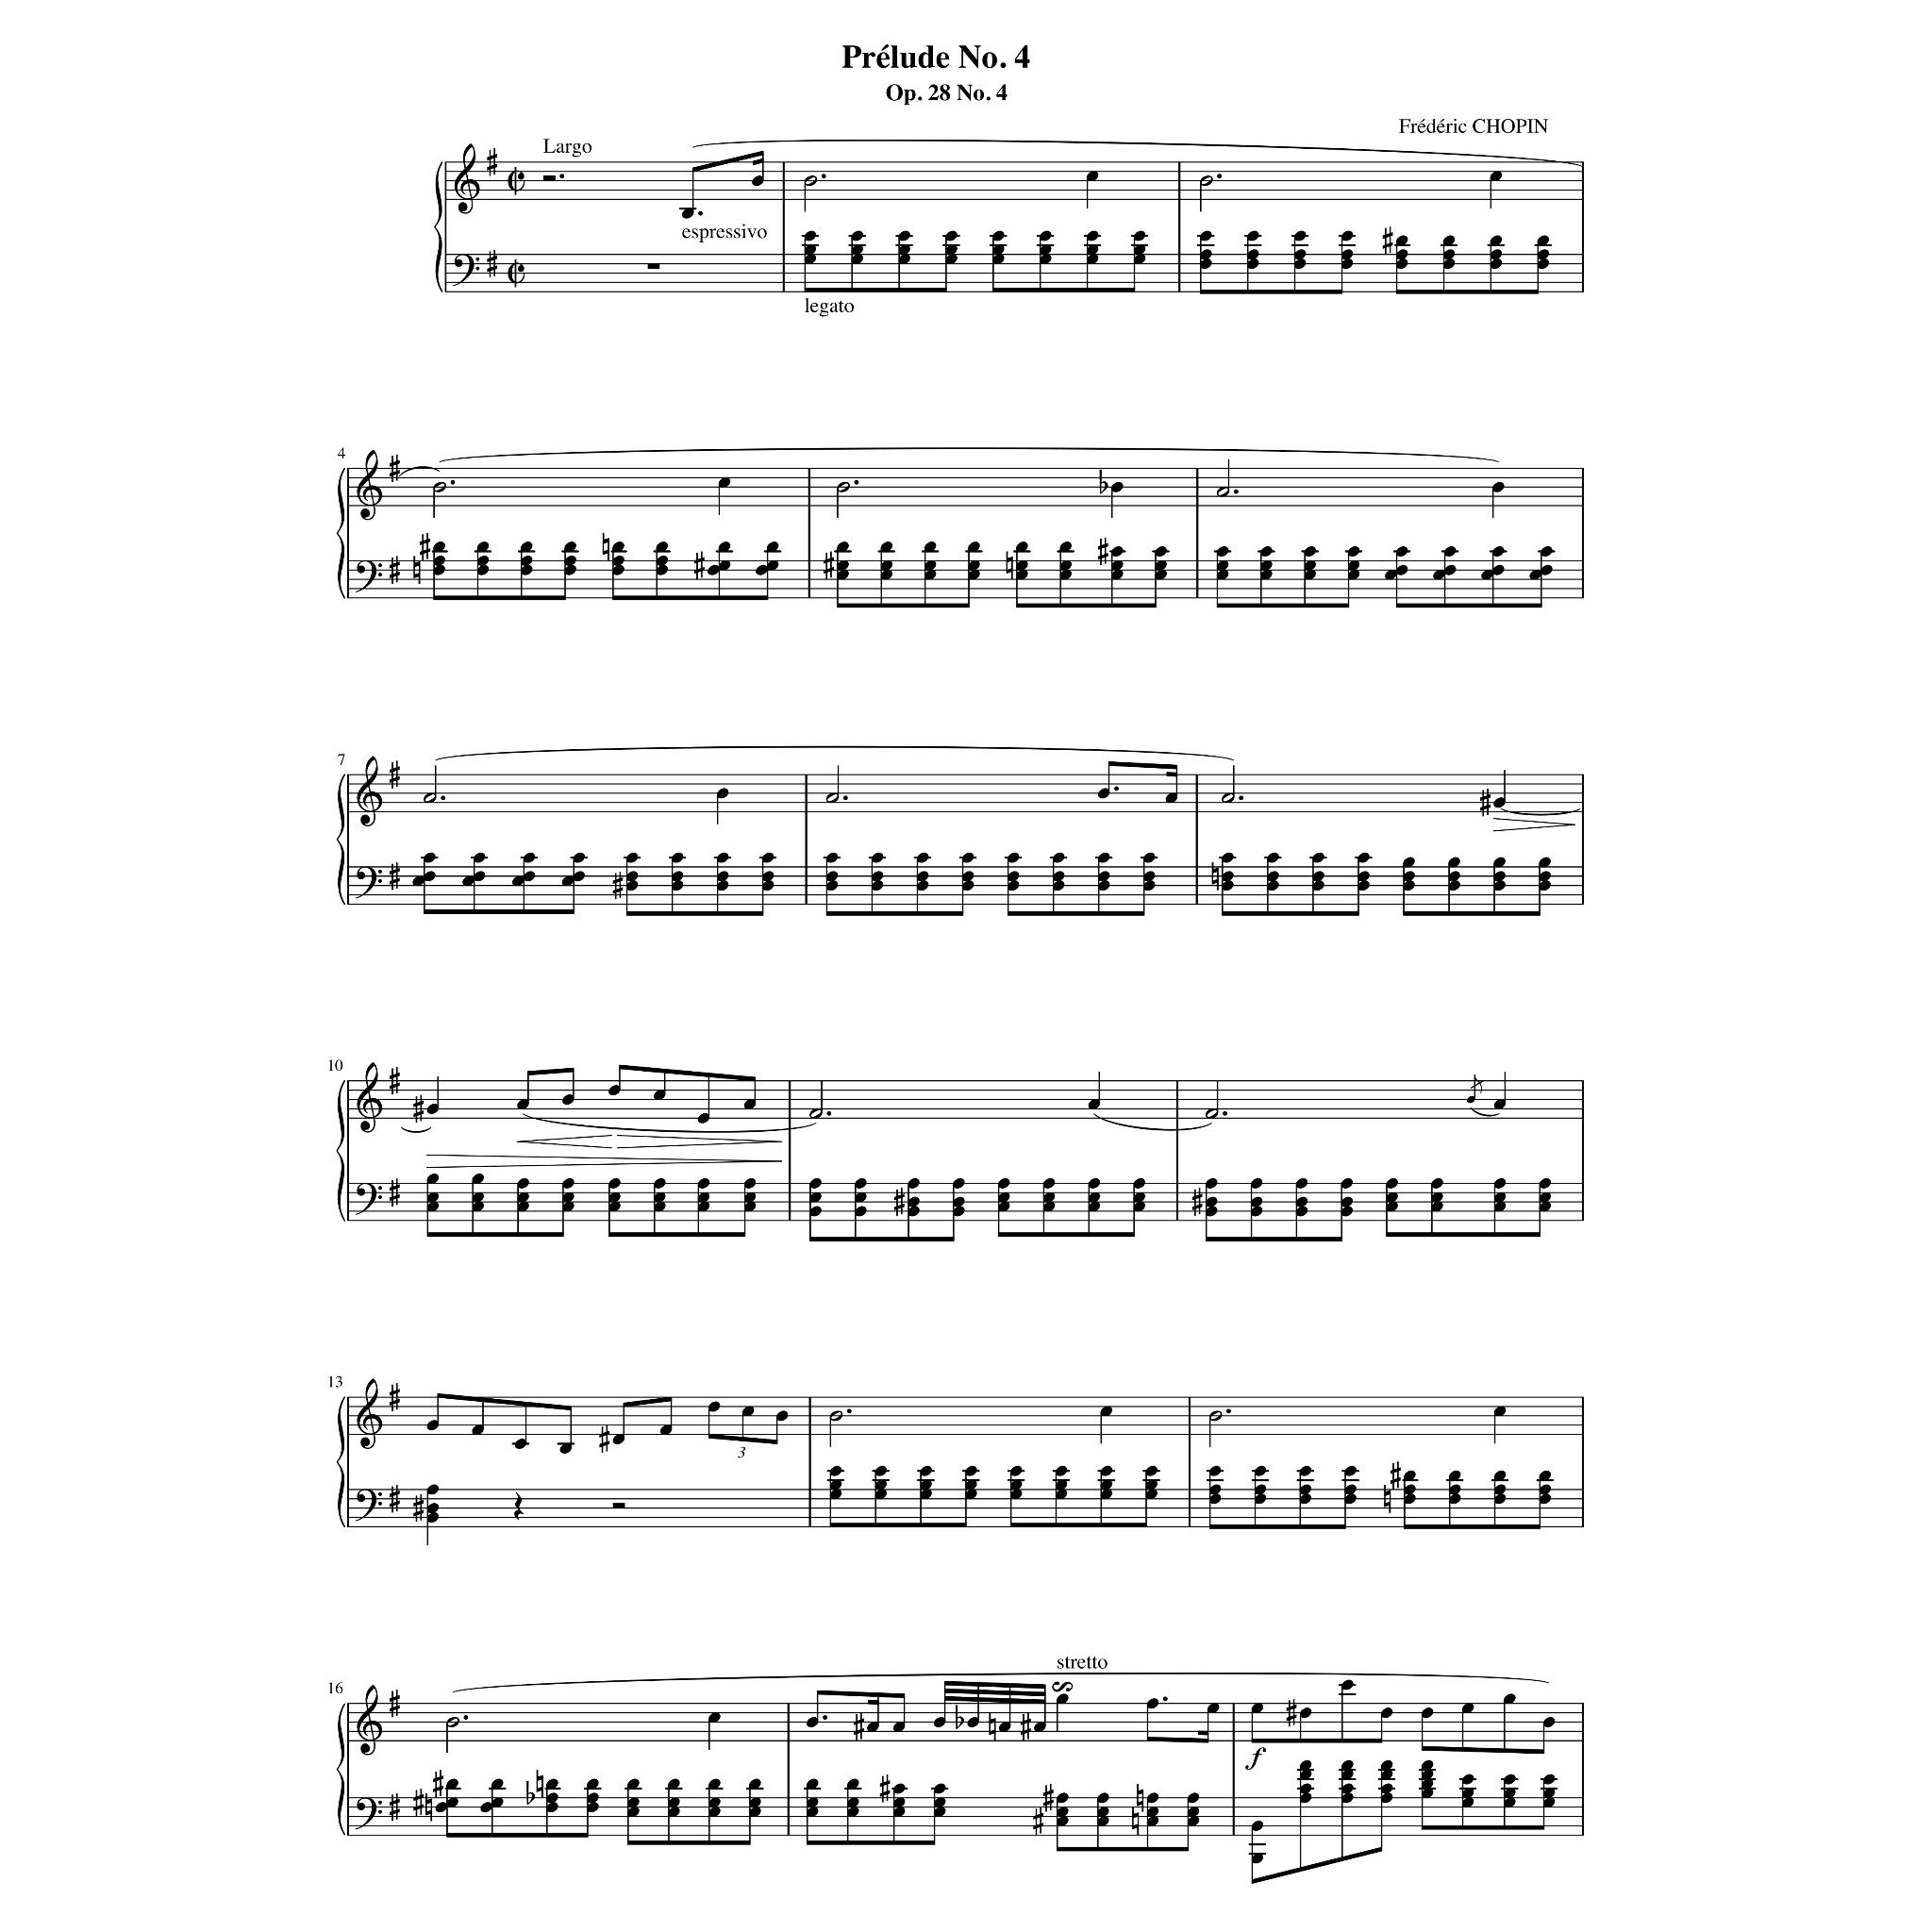brace: (336, 1081, 345, 1221), (433, 161, 442, 294), (336, 467, 345, 600), (336, 773, 345, 906), (336, 1396, 345, 1529), (336, 1704, 345, 1836)
fClef: (354, 559, 382, 593), (354, 1182, 382, 1215), (354, 1798, 382, 1831), (354, 867, 382, 899), (354, 1490, 382, 1522), (453, 255, 479, 287)
flag8thUp: (1468, 1069, 1483, 1095)
gClef: (453, 143, 479, 216), (356, 755, 382, 828), (356, 1378, 382, 1451), (356, 449, 382, 520), (356, 1062, 382, 1132), (356, 1684, 382, 1755)
noteheadBlack: (1132, 253, 1145, 265), (803, 253, 816, 265), (752, 175, 764, 188), (681, 207, 694, 219), (993, 253, 1005, 265), (945, 253, 957, 265), (1039, 253, 1051, 265), (1086, 253, 1099, 265), (851, 253, 863, 265), (897, 253, 909, 265), (1111, 481, 1123, 494), (1539, 564, 1552, 577), (1491, 564, 1504, 577), (1491, 481, 1504, 494), (1444, 564, 1456, 577), (1396, 564, 1408, 577), (612, 564, 625, 577), (564, 564, 577, 577), (708, 564, 720, 577), (655, 564, 667, 577), (432, 564, 444, 577), (520, 564, 533, 577), (476, 564, 488, 577), (755, 564, 768, 577), (1221, 851, 1233, 863), (1221, 870, 1233, 883), (1221, 879, 1233, 892), (1097, 787, 1109, 800), (1053, 851, 1065, 863), (1053, 870, 1065, 883), (1053, 879, 1065, 892), (1097, 879, 1109, 892), (1007, 851, 1019, 863), (1007, 870, 1019, 883), (1007, 879, 1019, 892), (1143, 851, 1155, 863), (1143, 870, 1155, 883), (1143, 879, 1155, 892), (1097, 851, 1109, 863), (1097, 870, 1109, 883), (1537, 856, 1550, 869), (1537, 870, 1550, 883), (1537, 879, 1550, 892), (1493, 856, 1506, 869), (1493, 870, 1506, 883), (1493, 879, 1506, 892), (1311, 870, 1323, 883), (1357, 851, 1369, 863), (1357, 870, 1369, 883), (1357, 879, 1369, 892), (1311, 851, 1323, 863), (1311, 879, 1323, 892), (1267, 851, 1279, 863), (1267, 870, 1279, 883), (1267, 879, 1279, 892), (1447, 856, 1460, 869), (1447, 870, 1460, 883), (1447, 879, 1460, 892), (1403, 856, 1415, 869), (1403, 870, 1415, 883), (1403, 879, 1415, 892), (522, 870, 534, 883), (571, 851, 584, 863), (571, 870, 584, 883), (522, 851, 534, 863), (472, 851, 485, 863), (472, 870, 485, 883), (671, 851, 683, 863), (671, 870, 683, 883), (625, 851, 637, 863), (625, 870, 637, 883), (625, 879, 637, 892), (423, 870, 435, 883), (423, 851, 435, 863), (671, 879, 683, 892), (915, 879, 927, 892), (915, 870, 927, 883), (915, 851, 927, 863), (870, 851, 883, 863), (870, 870, 883, 883), (870, 879, 883, 892), (824, 851, 837, 863), (961, 879, 973, 892), (961, 870, 973, 883), (717, 851, 729, 863), (717, 870, 729, 883), (961, 851, 973, 863), (717, 879, 729, 892), (717, 787, 729, 800), (824, 879, 837, 892), (824, 870, 837, 883), (1205, 1177, 1217, 1189), (1205, 1205, 1217, 1217), (1132, 1177, 1145, 1189), (1132, 1191, 1145, 1203), (1249, 1205, 1261, 1217), (1249, 1177, 1261, 1189), (996, 1177, 1008, 1189), (996, 1191, 1008, 1203), (952, 1177, 964, 1189), (952, 1205, 964, 1217), (1042, 1177, 1054, 1189), (1042, 1191, 1054, 1203), (1537, 1177, 1550, 1189), (1537, 1191, 1550, 1203), (1385, 1177, 1398, 1189), (1385, 1191, 1398, 1203), (1339, 1177, 1352, 1189), (1339, 1205, 1352, 1217), (1295, 1177, 1307, 1189), (1295, 1205, 1307, 1217), (1493, 1177, 1506, 1189), (1493, 1191, 1506, 1203), (1493, 1099, 1506, 1111), (1431, 1177, 1444, 1189), (1431, 1191, 1444, 1203), (517, 1177, 529, 1189), (517, 1191, 529, 1203), (517, 1099, 529, 1111), (609, 1177, 621, 1189), (908, 1177, 920, 1189), (609, 1191, 621, 1203), (609, 1085, 621, 1097), (471, 1173, 483, 1185), (471, 1191, 483, 1203), (426, 1173, 439, 1185), (426, 1191, 439, 1203), (809, 1177, 821, 1189), (809, 1191, 821, 1203), (809, 1205, 821, 1217), (908, 1205, 920, 1217), (855, 1177, 867, 1189), (855, 1191, 867, 1203), (855, 1205, 867, 1217), (697, 1177, 709, 1189), (697, 1191, 709, 1203), (653, 1177, 665, 1189), (653, 1191, 665, 1203), (743, 1191, 755, 1203), (743, 1177, 755, 1189), (743, 1099, 755, 1111), (1054, 1488, 1067, 1500), (1010, 1488, 1023, 1500), (1145, 1488, 1157, 1500), (1099, 1488, 1111, 1500), (1099, 1405, 1111, 1417), (1493, 1405, 1506, 1417), (513, 1438, 525, 1451), (660, 1424, 672, 1437), (471, 1424, 483, 1437), (612, 1433, 625, 1445), (426, 1502, 439, 1514), (426, 1419, 439, 1431), (964, 1488, 977, 1500), (920, 1488, 932, 1500), (874, 1488, 886, 1500), (741, 1405, 754, 1417), (775, 1410, 787, 1422), (828, 1488, 840, 1500), (1251, 1852, 1263, 1865), (1251, 1702, 1263, 1714), (1299, 1759, 1311, 1771), (1097, 1815, 1109, 1828), (1056, 1815, 1069, 1828), (1207, 1702, 1219, 1714), (1146, 1815, 1159, 1828), (1543, 1773, 1555, 1785), (1543, 1787, 1555, 1799), (1543, 1716, 1555, 1729), (1504, 1773, 1516, 1785), (1504, 1787, 1516, 1799), (1380, 1759, 1392, 1771), (1341, 1759, 1353, 1771), (1461, 1773, 1474, 1785), (1461, 1787, 1474, 1799), (1461, 1702, 1474, 1714), (1341, 1679, 1353, 1691), (1421, 1759, 1433, 1771), (1421, 1787, 1433, 1799), (586, 1801, 598, 1813), (807, 1716, 819, 1729), (545, 1801, 557, 1813), (479, 1801, 492, 1813), (934, 1716, 947, 1729), (966, 1716, 978, 1729), (1246, 258, 1258, 269), (1246, 249, 1258, 260), (1246, 230, 1258, 241), (1293, 258, 1306, 269), (1293, 249, 1306, 260), (1293, 230, 1306, 241), (1132, 230, 1145, 241), (1132, 244, 1145, 255), (1200, 258, 1212, 269), (1200, 249, 1212, 260), (1200, 230, 1212, 241), (1536, 258, 1548, 269), (1536, 235, 1548, 246), (1536, 249, 1548, 260), (1339, 258, 1352, 269), (1339, 249, 1352, 260), (1339, 230, 1352, 241), (1396, 258, 1408, 269), (1396, 249, 1408, 260), (1396, 235, 1408, 246), (1442, 258, 1454, 269), (1442, 249, 1454, 260), (1442, 235, 1454, 246), (1490, 172, 1502, 182), (1490, 258, 1502, 269), (1490, 249, 1502, 260), (1490, 235, 1502, 246), (803, 244, 816, 255), (803, 230, 816, 241), (1086, 230, 1099, 241), (945, 230, 957, 241), (993, 230, 1005, 241), (993, 244, 1005, 255), (945, 244, 957, 255), (1039, 244, 1051, 255), (1039, 230, 1051, 241), (1086, 172, 1099, 182), (1086, 244, 1099, 255), (897, 230, 909, 241), (851, 244, 863, 255), (851, 230, 863, 241), (897, 244, 909, 255), (1215, 547, 1228, 557), (1215, 561, 1228, 571), (1215, 570, 1228, 580), (1154, 547, 1166, 557), (1154, 561, 1166, 571), (1154, 570, 1166, 580), (968, 570, 980, 580), (1016, 561, 1028, 571), (1016, 541, 1028, 552), (1016, 570, 1028, 580), (968, 541, 980, 552), (968, 561, 980, 571), (1111, 547, 1123, 557), (1111, 561, 1123, 571), (1111, 570, 1123, 580), (1539, 547, 1552, 557), (1529, 570, 1541, 580), (1491, 547, 1504, 557), (1481, 570, 1493, 580), (1348, 561, 1361, 571), (1348, 570, 1361, 580), (1304, 547, 1316, 557), (1304, 561, 1316, 571), (1304, 570, 1316, 580), (1348, 547, 1361, 557), (1260, 547, 1272, 557), (1260, 561, 1272, 571), (1260, 570, 1272, 580), (1444, 547, 1456, 557), (1433, 570, 1445, 580), (1396, 547, 1408, 557), (1384, 570, 1396, 580), (612, 541, 625, 552), (612, 556, 625, 566), (564, 541, 577, 552), (564, 556, 577, 566), (655, 556, 667, 566), (655, 541, 667, 552), (432, 541, 444, 552), (432, 556, 444, 566), (520, 541, 533, 552), (520, 556, 533, 566), (476, 541, 488, 552), (476, 556, 488, 566), (924, 541, 936, 552), (924, 561, 936, 571), (924, 570, 936, 580), (879, 541, 892, 552), (879, 561, 892, 571), (879, 570, 892, 580), (766, 541, 778, 552), (766, 561, 778, 571), (837, 541, 849, 552), (837, 561, 849, 571), (837, 570, 849, 580), (1164, 793, 1177, 803), (1493, 798, 1506, 809), (561, 876, 573, 886), (511, 876, 524, 886), (462, 876, 474, 886), (412, 876, 425, 886), (763, 879, 773, 892), (763, 851, 773, 863), (763, 870, 773, 883), (1205, 1196, 1217, 1207), (1249, 1196, 1261, 1207), (996, 1201, 1008, 1212), (952, 1196, 964, 1207), (1088, 1191, 1099, 1203), (1088, 1177, 1099, 1189), (1132, 1201, 1145, 1212), (1088, 1099, 1099, 1111), (1042, 1201, 1054, 1212), (1537, 1201, 1550, 1212), (1385, 1201, 1398, 1212), (1339, 1196, 1352, 1207), (1295, 1196, 1307, 1207), (1493, 1201, 1506, 1212), (1431, 1201, 1444, 1212), (563, 1177, 573, 1189), (563, 1191, 573, 1203), (517, 1201, 529, 1212), (653, 1090, 665, 1100), (609, 1201, 621, 1212), (471, 1201, 483, 1212), (426, 1201, 439, 1212), (426, 1104, 439, 1115), (653, 1201, 665, 1212), (908, 1196, 920, 1207), (697, 1201, 709, 1212), (697, 1113, 709, 1123), (743, 1201, 755, 1212), (1208, 1467, 1221, 1477), (1208, 1484, 1221, 1495), (1208, 1493, 1221, 1504), (1253, 1467, 1265, 1477), (1253, 1484, 1265, 1495), (1253, 1493, 1265, 1504), (1054, 1467, 1067, 1477), (1054, 1479, 1067, 1490), (1010, 1467, 1023, 1477), (1010, 1479, 1023, 1490), (1145, 1467, 1157, 1477), (1145, 1479, 1157, 1490), (1099, 1467, 1111, 1477), (1099, 1479, 1111, 1490), (1537, 1470, 1550, 1481), (1537, 1484, 1550, 1495), (1537, 1493, 1550, 1504), (1493, 1470, 1506, 1481), (1493, 1484, 1506, 1495), (1403, 1493, 1415, 1504), (1403, 1484, 1415, 1495), (1299, 1467, 1311, 1477), (1299, 1484, 1311, 1495), (1299, 1493, 1311, 1504), (1449, 1493, 1461, 1504), (1493, 1493, 1506, 1504), (1449, 1470, 1461, 1481), (1449, 1484, 1461, 1495), (1403, 1470, 1415, 1481), (559, 1444, 571, 1454), (964, 1467, 977, 1477), (426, 1484, 439, 1495), (426, 1513, 439, 1523), (920, 1479, 932, 1490), (964, 1479, 977, 1490), (920, 1467, 932, 1477), (874, 1467, 886, 1477), (874, 1479, 886, 1490), (708, 1401, 720, 1412), (828, 1479, 840, 1490), (828, 1467, 840, 1477), (1251, 1821, 1263, 1831), (1299, 1769, 1311, 1780), (1299, 1783, 1311, 1794), (1299, 1792, 1311, 1803), (1299, 1707, 1311, 1718), (1056, 1693, 1069, 1704), (1097, 1792, 1109, 1803), (1097, 1806, 1109, 1817), (1056, 1792, 1069, 1803), (1056, 1806, 1069, 1817), (1187, 1815, 1198, 1828), (1146, 1792, 1159, 1803), (1146, 1806, 1159, 1817), (1146, 1698, 1159, 1709), (1543, 1798, 1555, 1808), (1504, 1798, 1516, 1808), (1504, 1693, 1516, 1704), (1380, 1769, 1392, 1780), (1380, 1783, 1392, 1794), (1380, 1792, 1392, 1803), (1380, 1707, 1392, 1718), (1341, 1769, 1353, 1780), (1341, 1783, 1353, 1794), (1341, 1792, 1353, 1803), (1461, 1798, 1474, 1808), (1421, 1769, 1433, 1780), (1421, 1778, 1433, 1789), (1421, 1707, 1433, 1718), (667, 1778, 679, 1789), (667, 1798, 679, 1808), (667, 1806, 679, 1817), (626, 1778, 639, 1789), (626, 1798, 639, 1808), (626, 1806, 639, 1817), (586, 1778, 598, 1789), (586, 1792, 598, 1803), (807, 1798, 819, 1808), (807, 1806, 819, 1817), (748, 1778, 761, 1789), (748, 1798, 761, 1808), (748, 1806, 761, 1817), (708, 1778, 720, 1789), (708, 1798, 720, 1808), (708, 1806, 720, 1817), (708, 1713, 720, 1723), (446, 1798, 458, 1808), (435, 1801, 446, 1813), (446, 1778, 458, 1789), (545, 1778, 557, 1789), (545, 1792, 557, 1803), (934, 1783, 947, 1794), (934, 1798, 947, 1808), (934, 1806, 947, 1817), (807, 1778, 819, 1789), (893, 1798, 906, 1808), (893, 1806, 906, 1817), (893, 1721, 906, 1732), (1033, 1721, 1046, 1732), (893, 1783, 906, 1794), (998, 1721, 1010, 1732), (867, 1721, 879, 1732), (1060, 570, 1070, 580), (1060, 561, 1070, 571), (1060, 541, 1070, 552), (718, 478, 729, 488), (718, 561, 729, 571), (718, 541, 729, 552), (1088, 1201, 1099, 1212), (563, 1201, 573, 1212), (563, 1095, 573, 1106), (1345, 1467, 1355, 1477), (1345, 1484, 1355, 1495), (1345, 1493, 1355, 1504), (1187, 1792, 1198, 1803), (1187, 1806, 1198, 1817), (492, 1778, 502, 1789), (492, 1798, 502, 1808), (847, 1798, 858, 1808), (847, 1806, 858, 1817), (847, 1778, 858, 1789), (1467, 1095, 1476, 1104)
noteheadHalf: (803, 175, 817, 188), (1215, 487, 1230, 499), (432, 481, 446, 494), (835, 481, 849, 494), (446, 1716, 460, 1729), (1200, 175, 1212, 188), (1208, 1410, 1221, 1422), (830, 1410, 842, 1422), (1221, 793, 1235, 803), (809, 1109, 823, 1120), (423, 793, 435, 803), (826, 793, 839, 803), (1205, 1109, 1217, 1120)
restHalf: (612, 1502, 625, 1509), (543, 175, 556, 180)
restQuarter: (513, 1493, 524, 1522)
restWhole: (646, 264, 660, 269)
